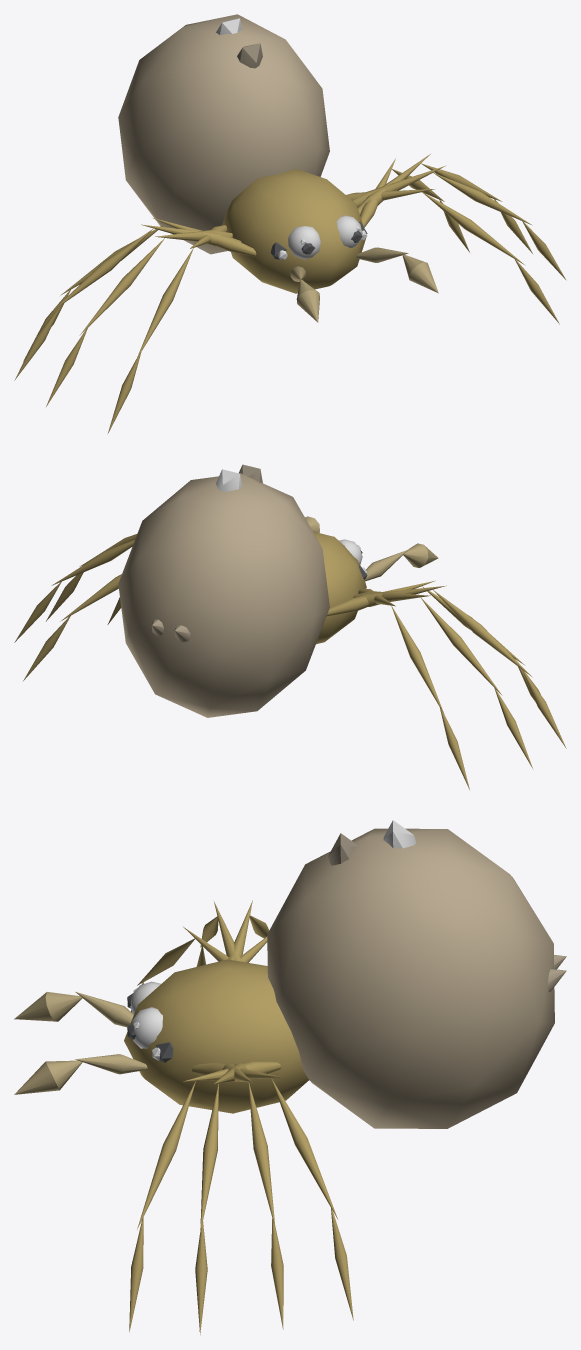
The model's file is heteropoda-venatoria.glb.
3 views of the same model, one above another, from view 1: azimuth 30°, elevation 25°; view 2: azimuth 150°, elevation 25°; view 3: azimuth 270°, elevation 25° (orthographic). The views are drawn at different scales.
Parts seen in each view (by area): view 1: abdomen, cephalothorax, leg1-r0, leg2-r0, leg2-l0, leg3-l0, leg3-r0, leg0-r0, leg1-l0, leg0-l0, eye0-r, palp-l1 (+2 smaller); view 2: abdomen, cephalothorax, leg2-r0, leg1-r0, leg0-r0, leg1-l0, leg3-r0, leg0-l0, leg2-l0, palp-r1, palp-r0; view 3: abdomen, cephalothorax, leg3-l0, leg0-l0, leg2-l0, leg1-l0, palp-l1, palp-r1, eye0-l, leg3-r0, palp-l0, leg2-r0 (+2 smaller).
Boxes of the visible parts, <box> form: abdomen: <box>118,14,329,254</box>; cephalothorax: <box>222,169,366,293</box>; leg1-r0: <box>14,224,241,380</box>; leg2-r0: <box>46,230,232,406</box>; leg2-l0: <box>352,165,566,280</box>; leg3-l0: <box>346,189,559,324</box>; leg3-r0: <box>107,225,227,434</box>; leg0-r0: <box>23,218,256,361</box>; leg1-l0: <box>357,154,532,253</box>; leg0-l0: <box>360,158,469,252</box>; eye0-r: <box>288,226,320,259</box>; palp-l1: <box>402,254,438,293</box>; abdomen: <box>118,464,329,717</box>; cephalothorax: <box>313,531,366,644</box>; leg2-r0: <box>342,585,566,748</box>; leg1-r0: <box>353,591,533,769</box>; leg0-r0: <box>358,589,469,789</box>; leg1-l0: <box>14,540,134,642</box>; leg3-r0: <box>327,580,540,702</box>; leg0-l0: <box>23,574,121,680</box>; leg2-l0: <box>46,534,136,621</box>; palp-r1: <box>403,543,438,567</box>; palp-r0: <box>365,549,408,581</box>; abdomen: <box>267,820,554,1128</box>; cephalothorax: <box>124,959,308,1113</box>; leg3-l0: <box>129,1061,281,1332</box>; leg0-l0: <box>192,1062,353,1320</box>; leg2-l0: <box>195,1063,246,1335</box>; leg1-l0: <box>222,1063,283,1329</box>; palp-l1: <box>14,1060,82,1094</box>; palp-r1: <box>14,992,82,1021</box>; eye0-l: <box>127,1007,162,1048</box>; leg3-r0: <box>131,927,228,1012</box>; palp-l0: <box>75,1054,147,1074</box>; leg2-r0: <box>196,901,242,966</box>.
Bounding box in the file's own units: 0.7649 × 0.3992 × 0.546.
